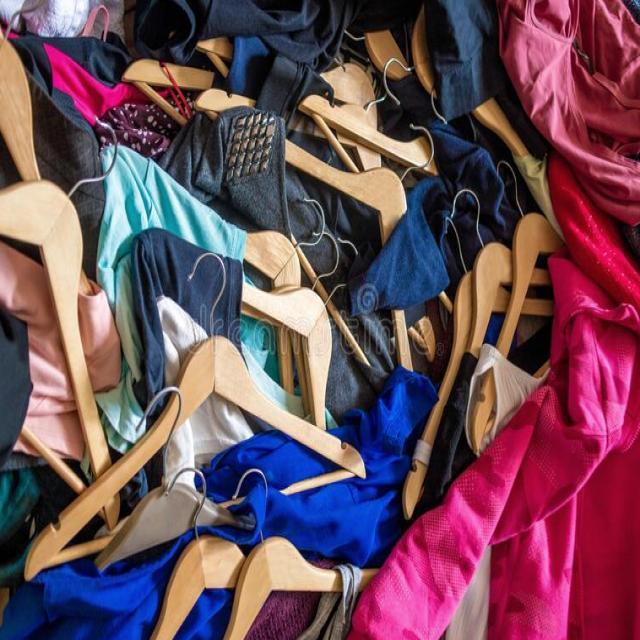clothes: (9, 68, 618, 629)
